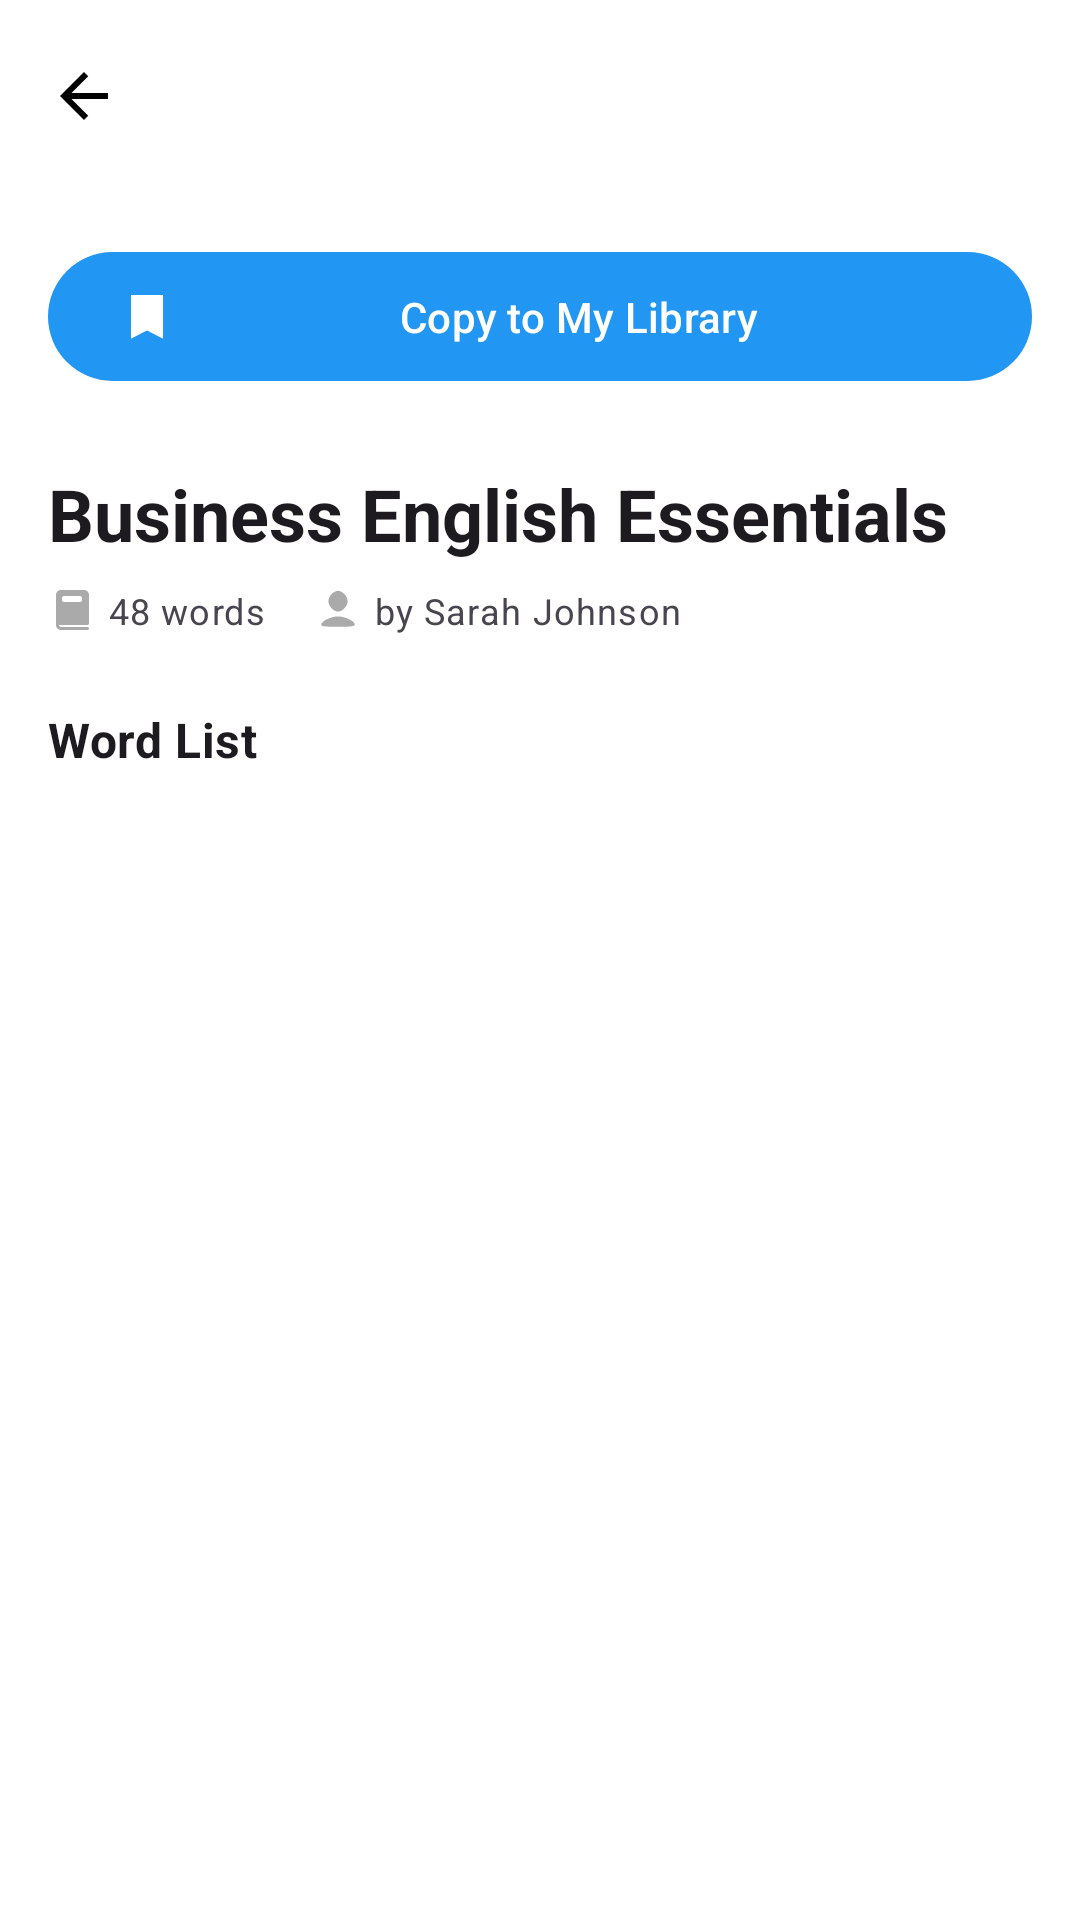

Locate icon controls on the screen. Image size 1080×1920, boxes as (x1, y1, x2, y2).
account: (321, 591, 355, 627)
dictionary: (56, 590, 89, 630)
